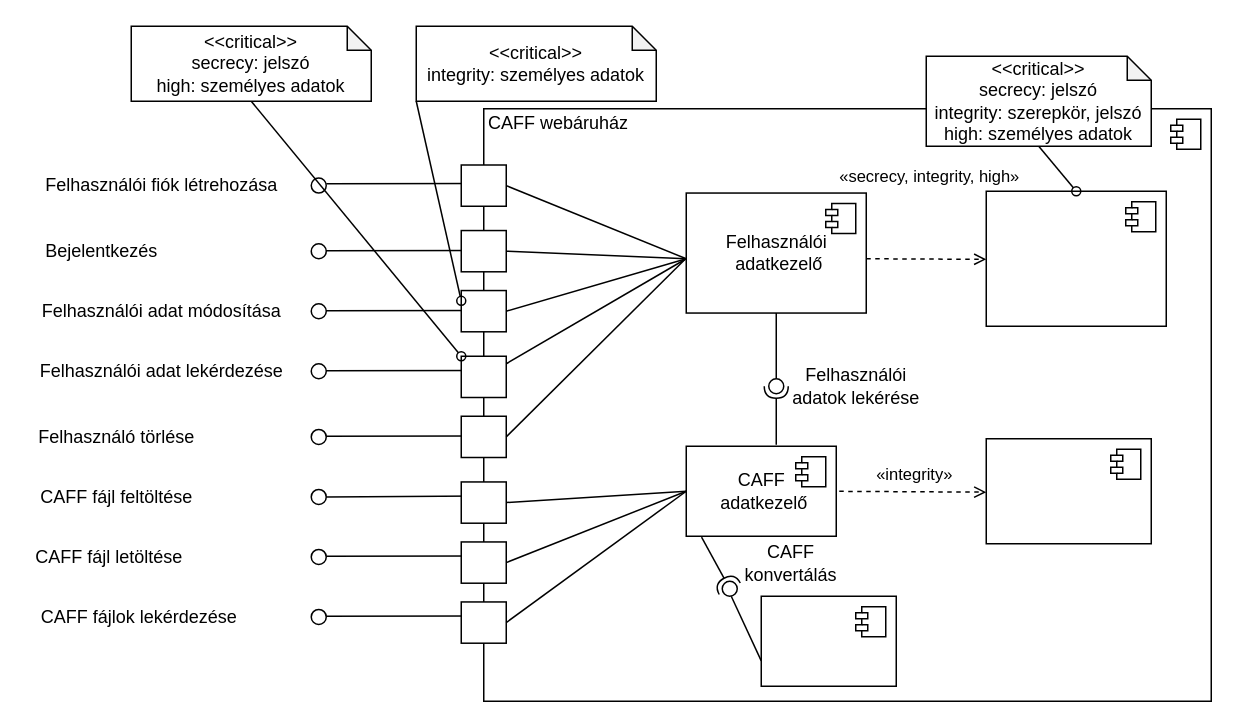
This 1238x728 diagram has some shape labels left out. Here are the shapes that lost their labels. From the top down, the centre of each, then its label:
(x=1075, y=258): «critical» Felhasználói adatbázis
(x=1068, y=490): «critical» CAFF adatbázis
(x=828, y=640): CAFF -parser
